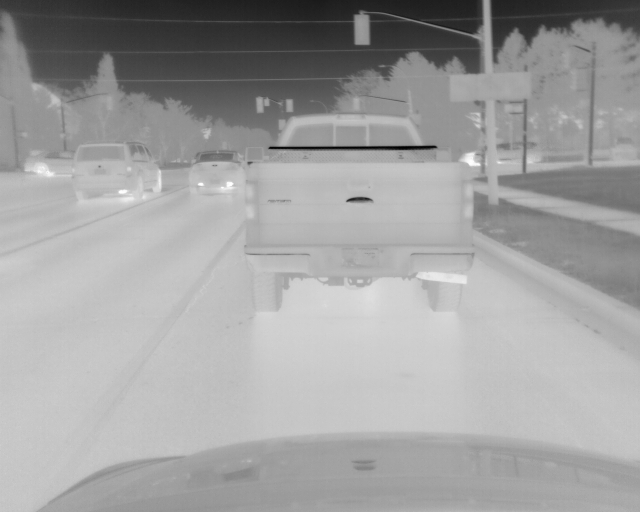car: (240, 113, 474, 314), (73, 141, 162, 204), (456, 138, 545, 167), (191, 150, 243, 196), (24, 148, 73, 177)
